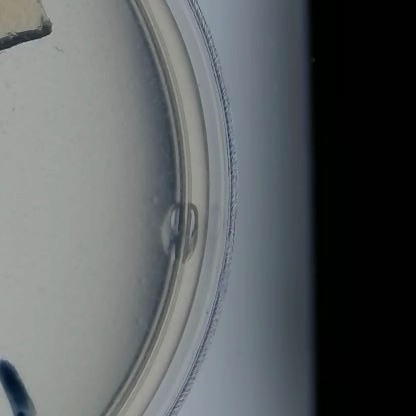worm: (43, 41, 66, 62), (0, 52, 8, 62)
